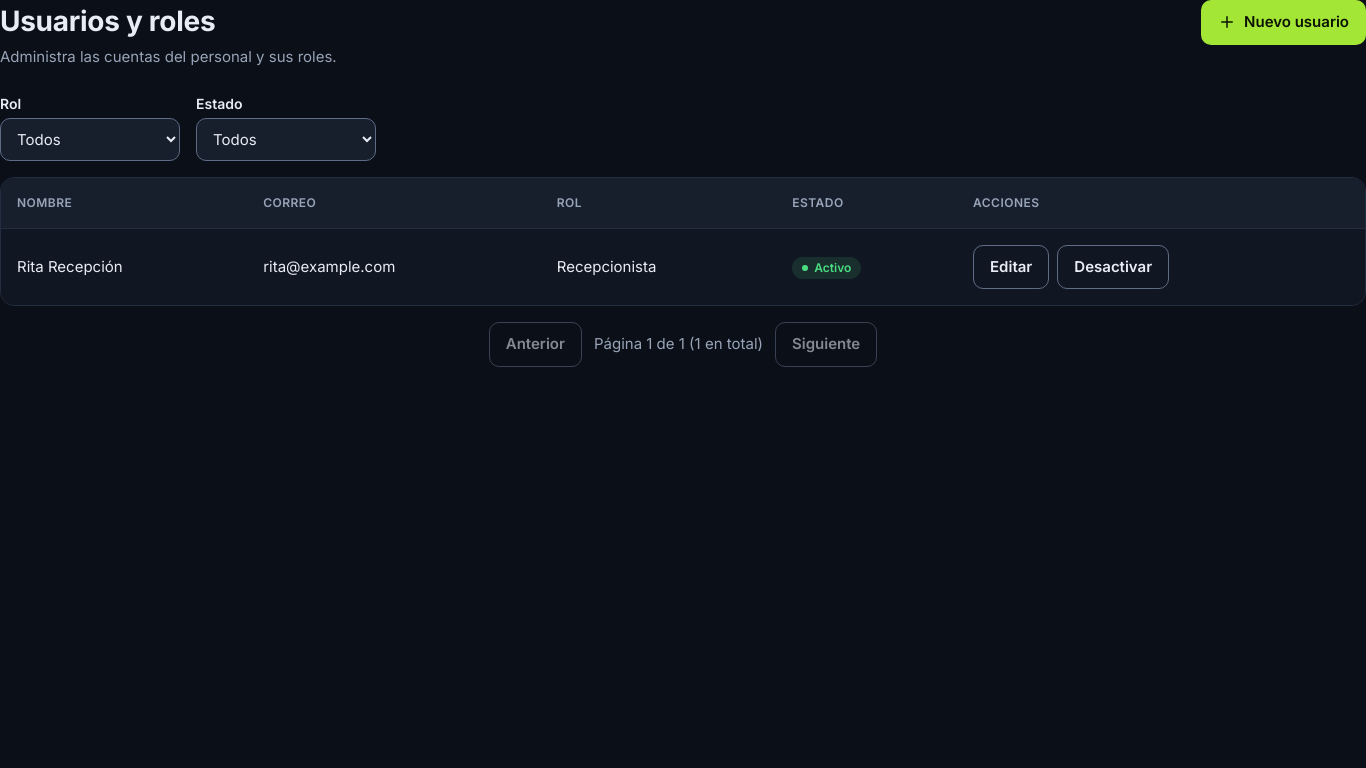
Test case: Usuarios (lista) › muestra el error del servidor si no se puede desactivar (último administrador)
This screenshot has width=1366, height=768.
What coordinates should you click on to do the following:
click the button "Desactivar"
I would click on:
 (1113, 267)
Its box is [1057,244,1169,289].
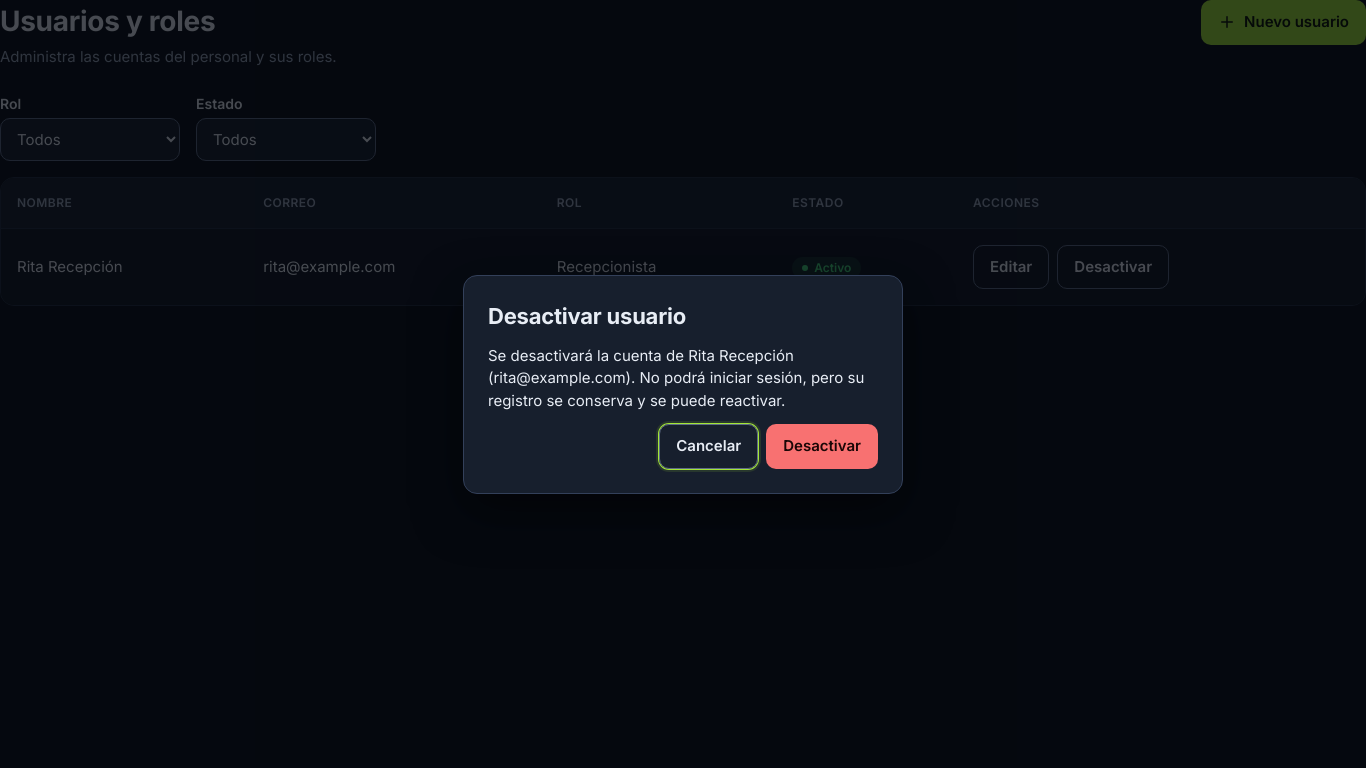
What coordinates should you click on to do the following:
click the button "Desactivar"
I would click on:
 (822, 446)
Its box is [766,424,878,468].
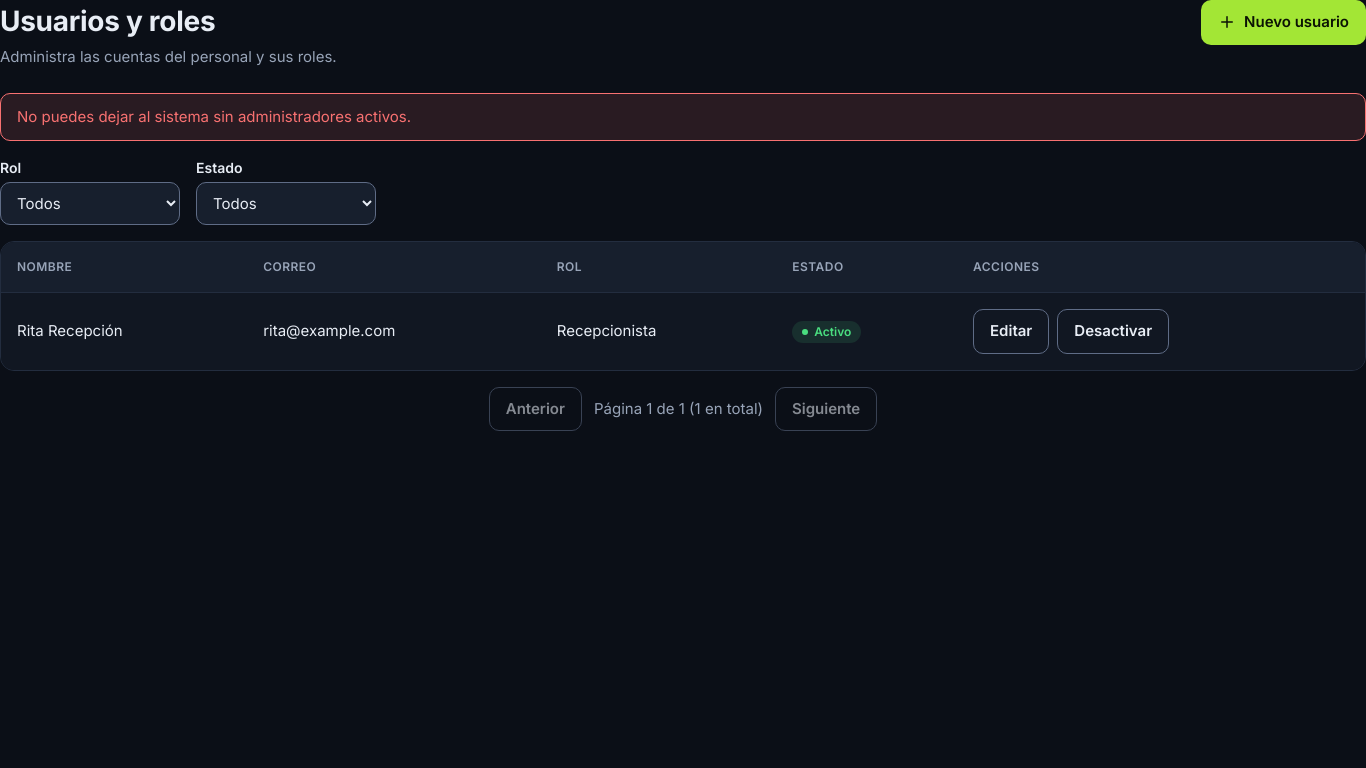
Check: the message shows "sin administradores activos", box [17,106,411,126]
